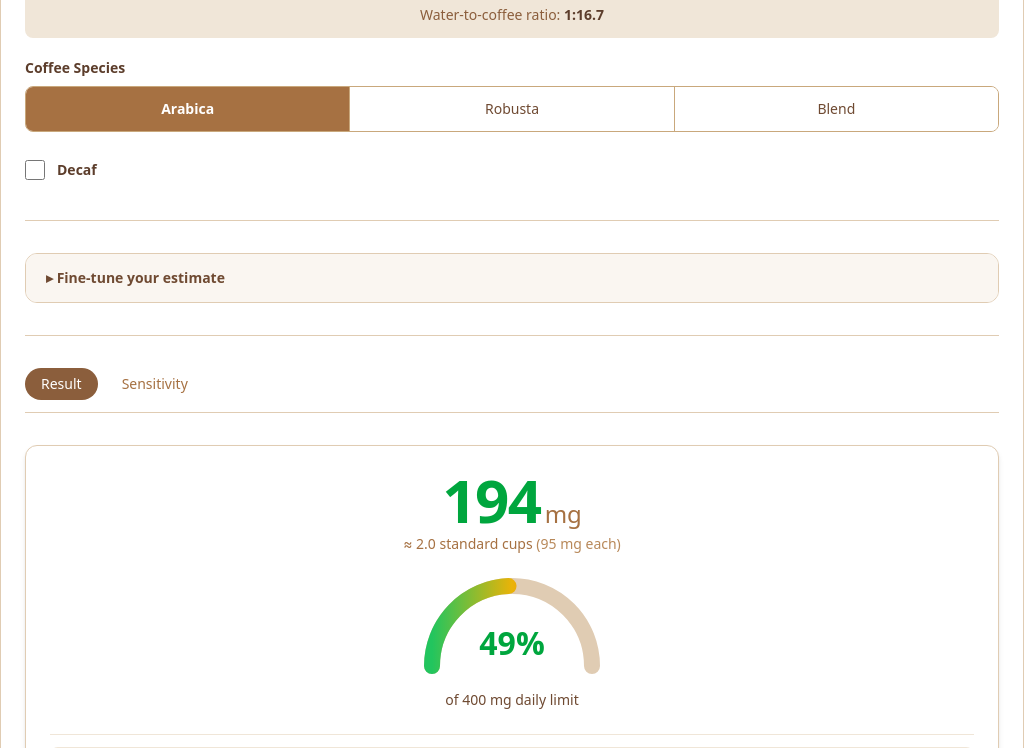
Scenario: Calculator › switches to Sensitivity view and renders lazy-loaded charts
(page scrolled)
Click the Sensitivity toggle button
Click the button "Sensitivity". click: {"x": 155, "y": 384}
box: x1=106 y1=368 x2=204 y2=400
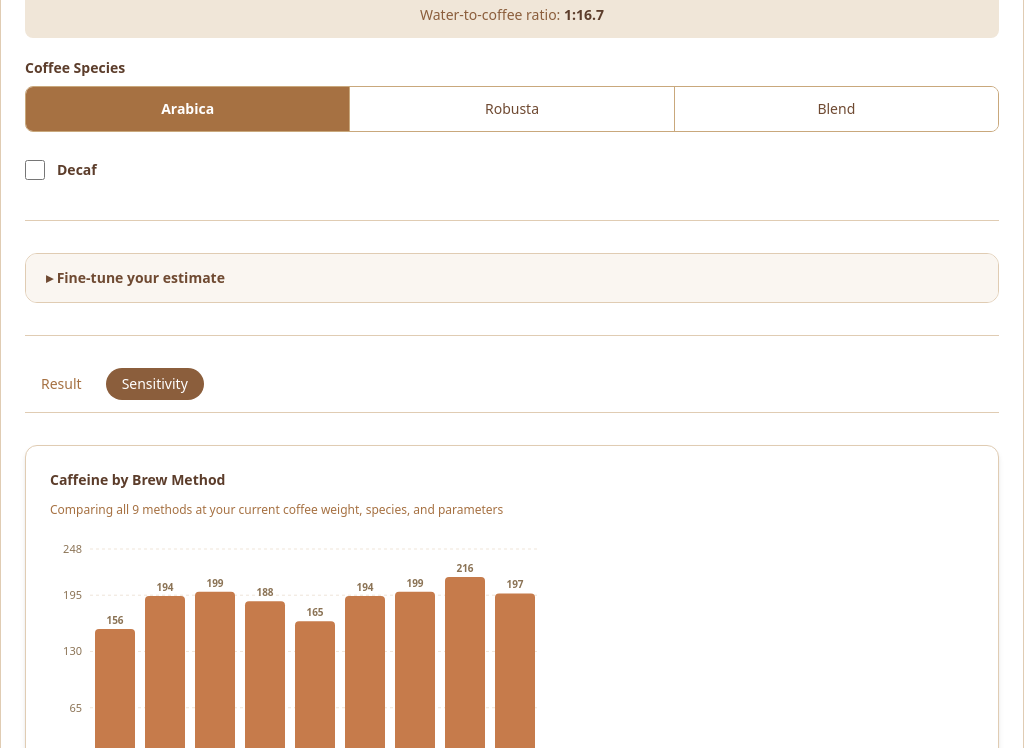
Now the heading "Caffeine by Brew Method" is shown, box x1=50 y1=470 x2=225 y2=489
